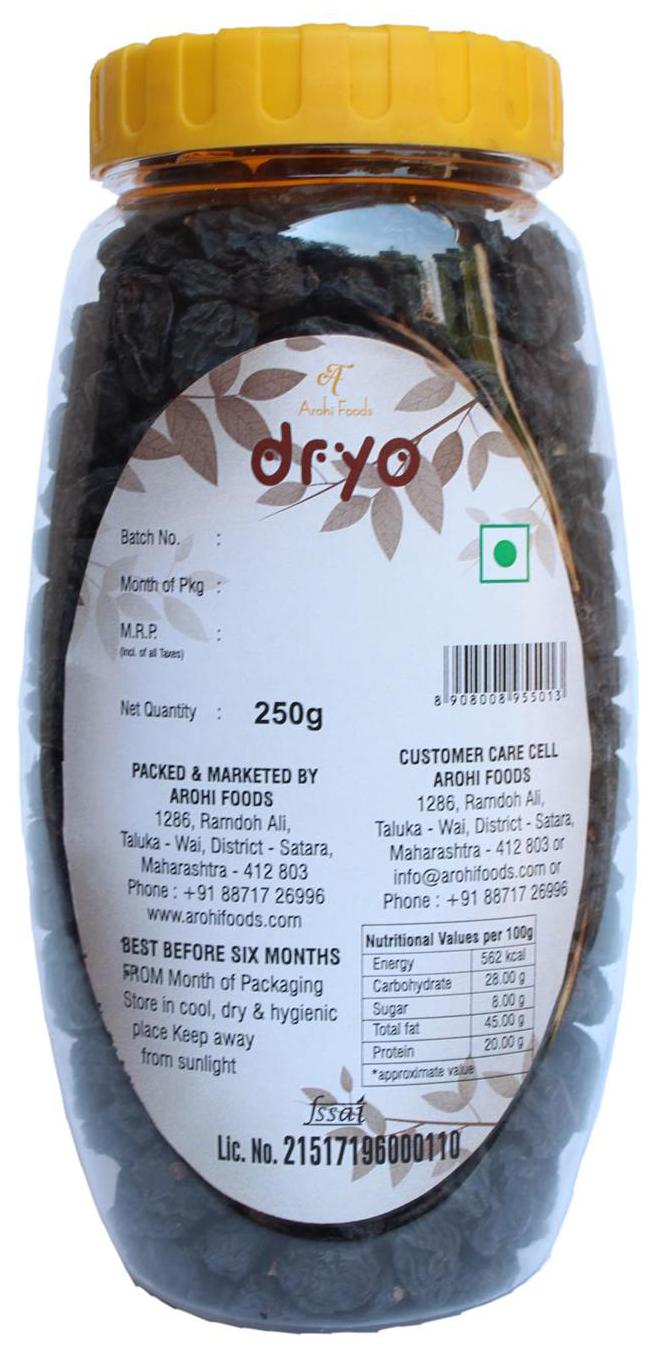fssai: (302, 1095, 366, 1126)
